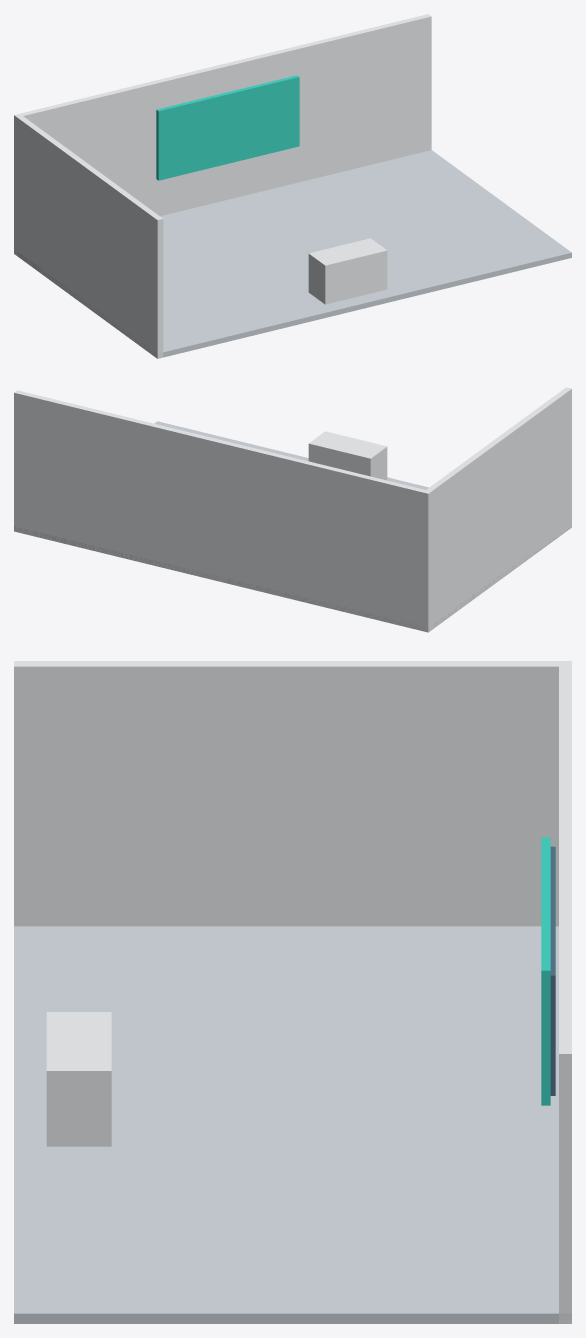
The picture shows the model from 3 angles, top to bottom: view 1: azimuth 30°, elevation 25°; view 2: azimuth 150°, elevation 25°; view 3: azimuth 270°, elevation 25°; orthographic projection. The views are drawn at different scales.
Parts seen in each view (by area): view 1: Exhibition Booth Concept; view 2: Exhibition Booth Concept; view 3: Exhibition Booth Concept.
Part boxes in pixels (x1=…): Exhibition Booth Concept: x1=14, y1=14, x2=571, y2=358; Exhibition Booth Concept: x1=14, y1=387, x2=571, y2=632; Exhibition Booth Concept: x1=14, y1=661, x2=571, y2=1323.
Size of the model in its own units: 10 by 3.2 by 6.
